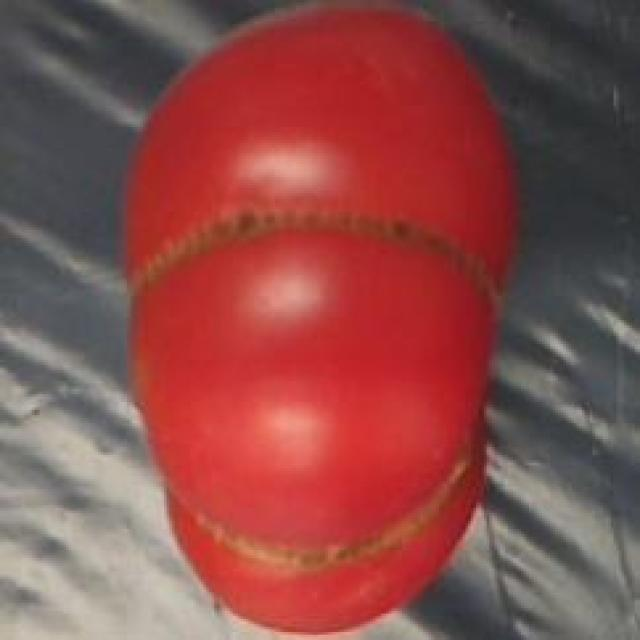overripe tomato: (111, 0, 537, 640)
